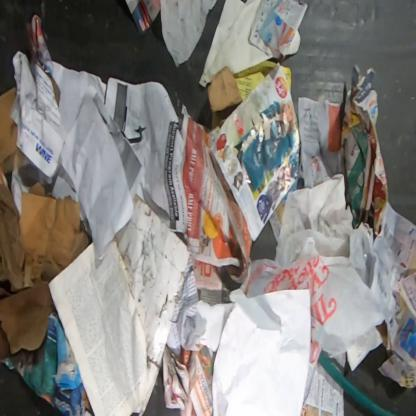cardboard: (113, 192, 191, 415), (0, 314, 86, 415), (20, 182, 88, 291), (0, 88, 30, 291), (0, 286, 57, 359), (207, 64, 242, 130)
soft_plastic: (241, 236, 386, 358), (125, 0, 162, 37)
